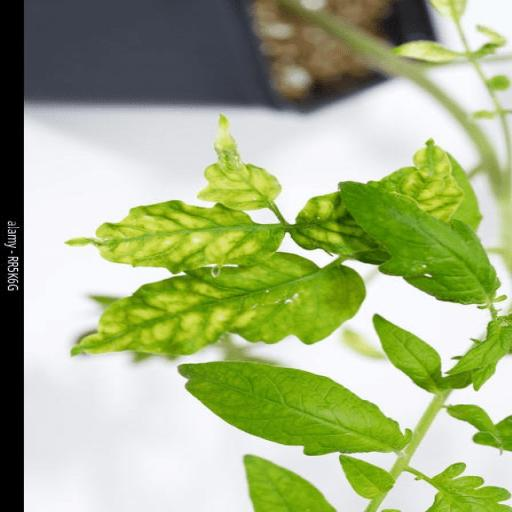Healthy: (176, 359, 418, 459), (338, 181, 500, 305), (371, 312, 453, 395)
Mosaic Virus: (62, 249, 370, 359), (290, 135, 466, 256), (62, 200, 288, 276), (196, 110, 286, 212)
